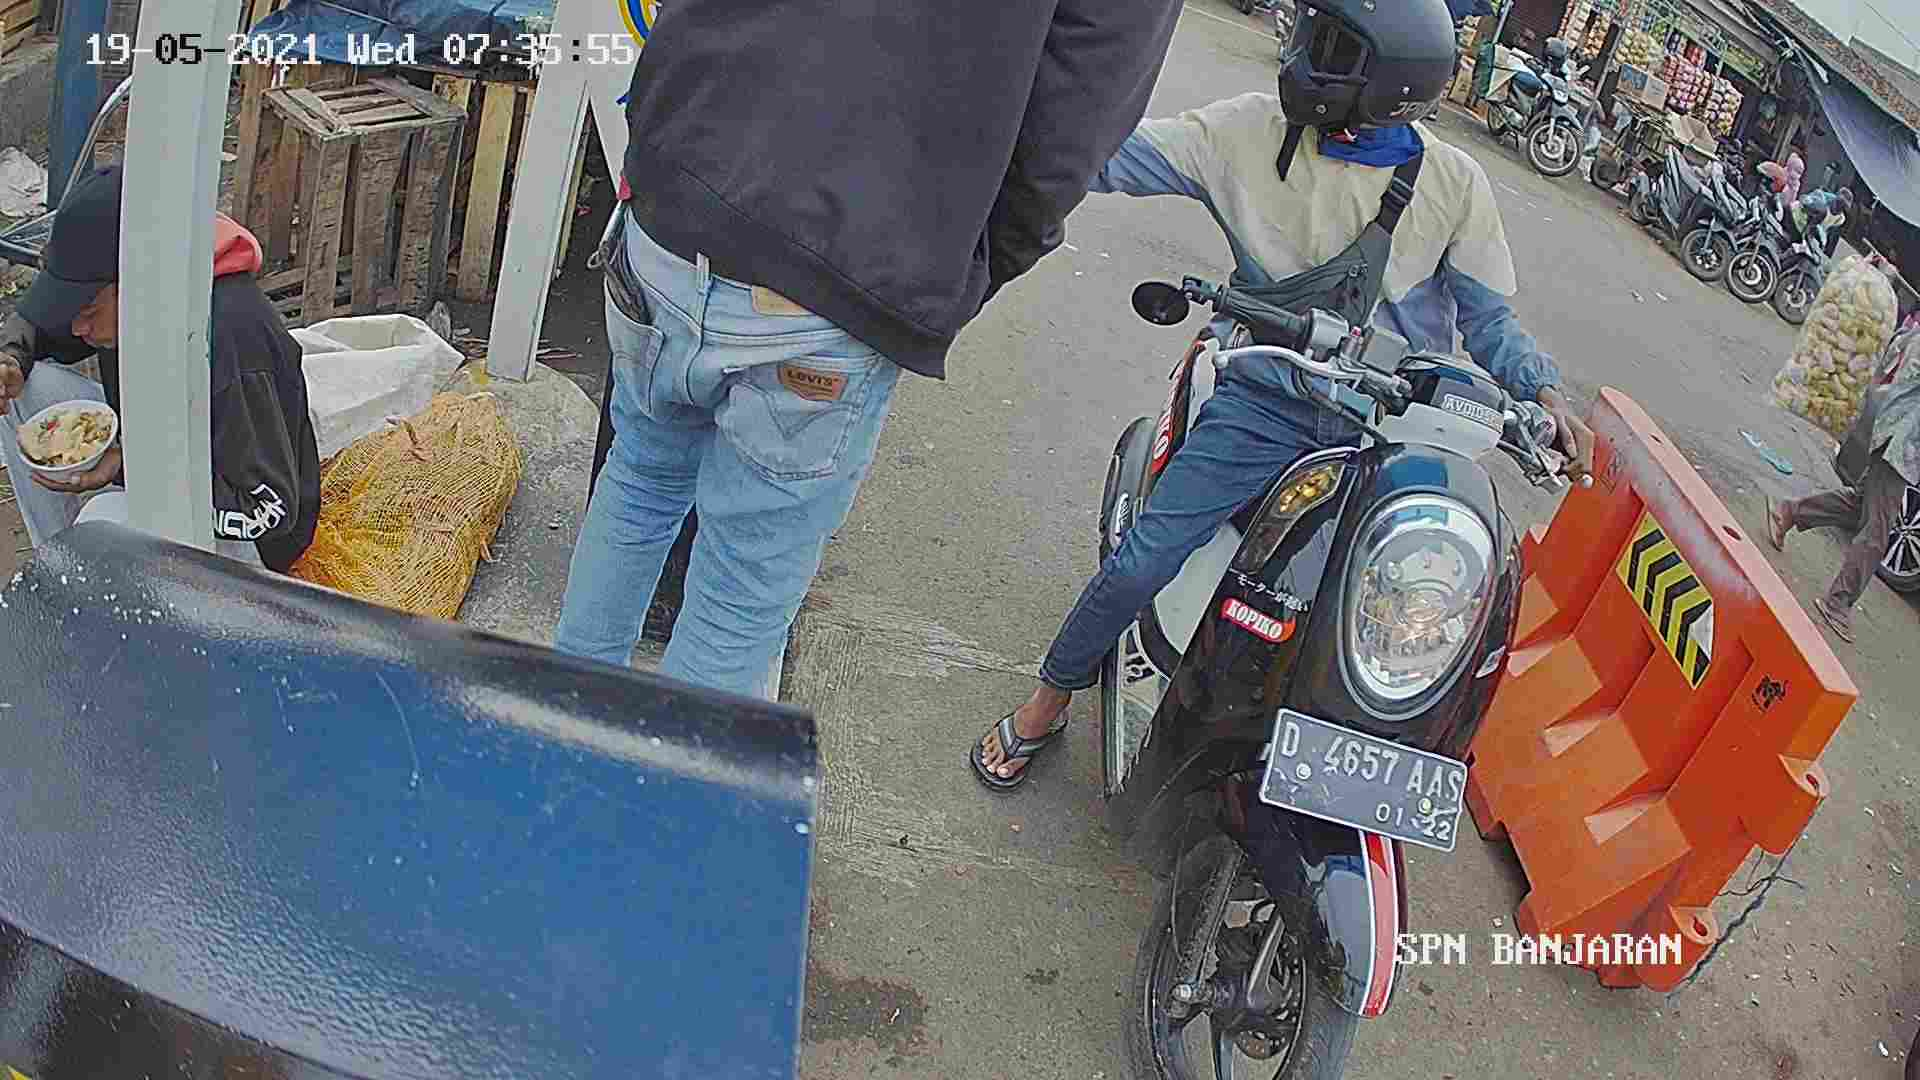motor: (1076, 344, 1514, 1080)
